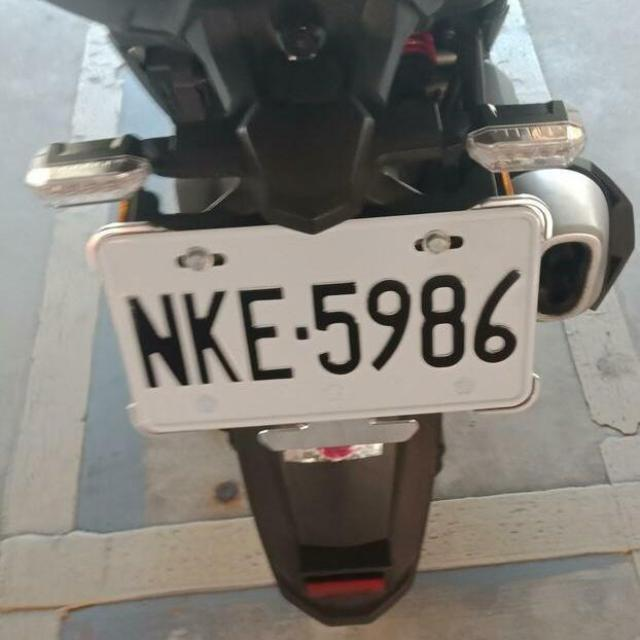W: (81, 194, 554, 457)
